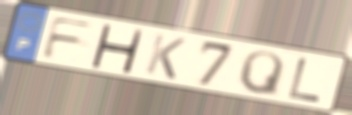7: (197, 38, 235, 88)
F: (39, 15, 98, 61)
H: (88, 22, 146, 75)
K: (142, 32, 189, 82)
L: (285, 56, 324, 105)
Q: (235, 49, 287, 99)
